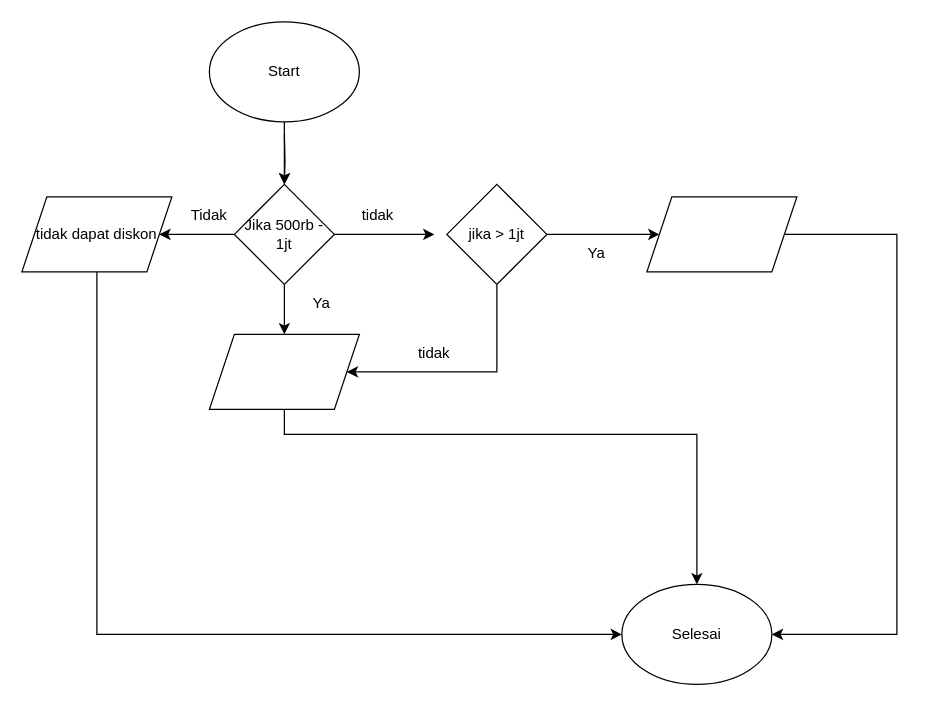
The diagram is 929 pixels wide and 706 high, and some of its shapes have lost their labels. The shapes that lost their labels are listed below. From the top down, each one's centre as x and y in pixels, then its label:
(x=721, y=234): diskon 10%
(x=283, y=371): Diskon 5%
